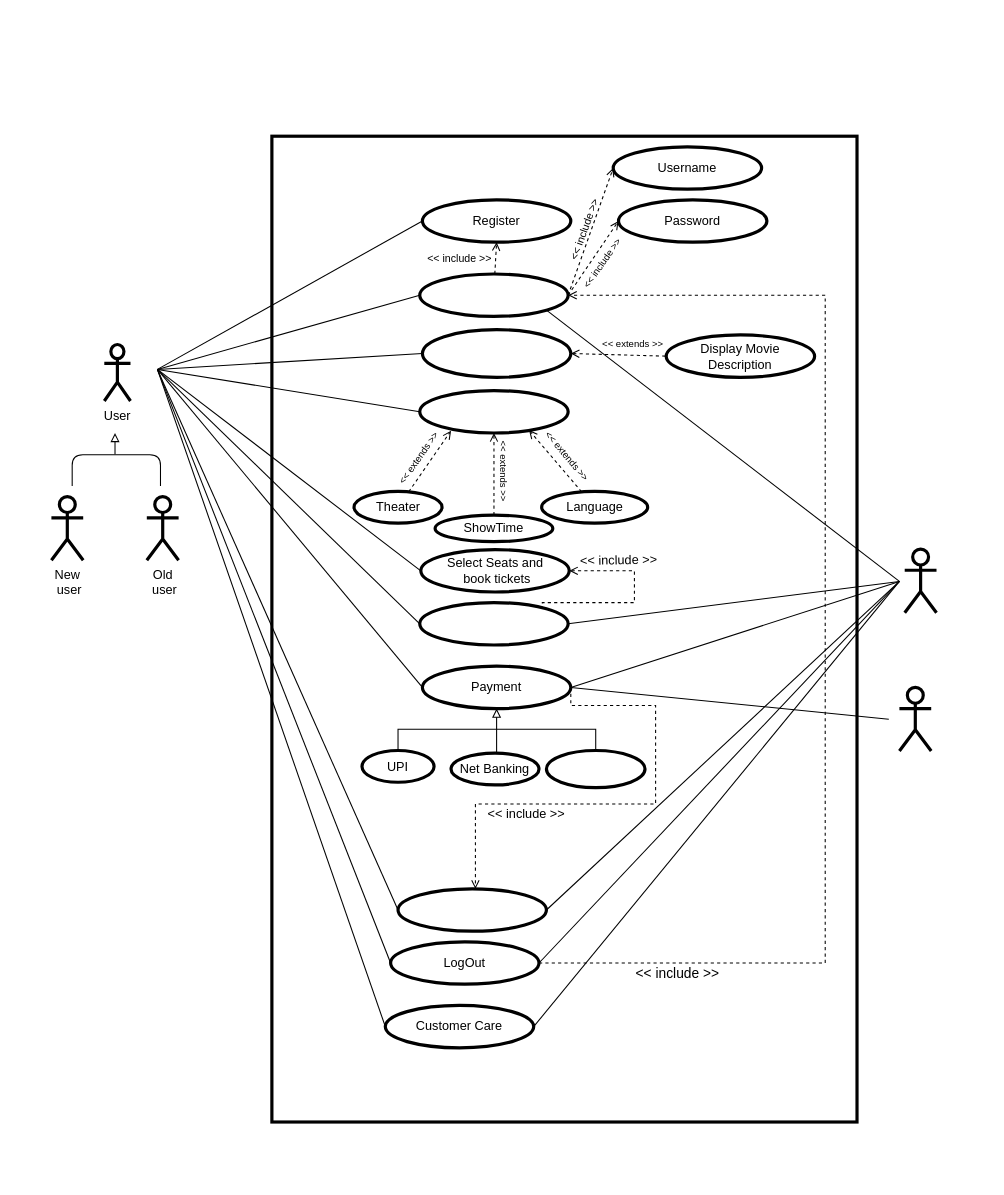
Image size: 1004x1195. Some labels were removed from this diagram. The centre of each missing label's shape, as x and y in pixels:
"Admin" goes at (920,580).
"Bank" goes at (914,718).
"Bill Summary" goes at (493,623).
"Browse Movies" goes at (496,353).
"Credit / Debit Card" goes at (595,768).
"E-Ticket" goes at (471,909).
"Filter Movies" goes at (493,411).
"Login" goes at (493,294).
